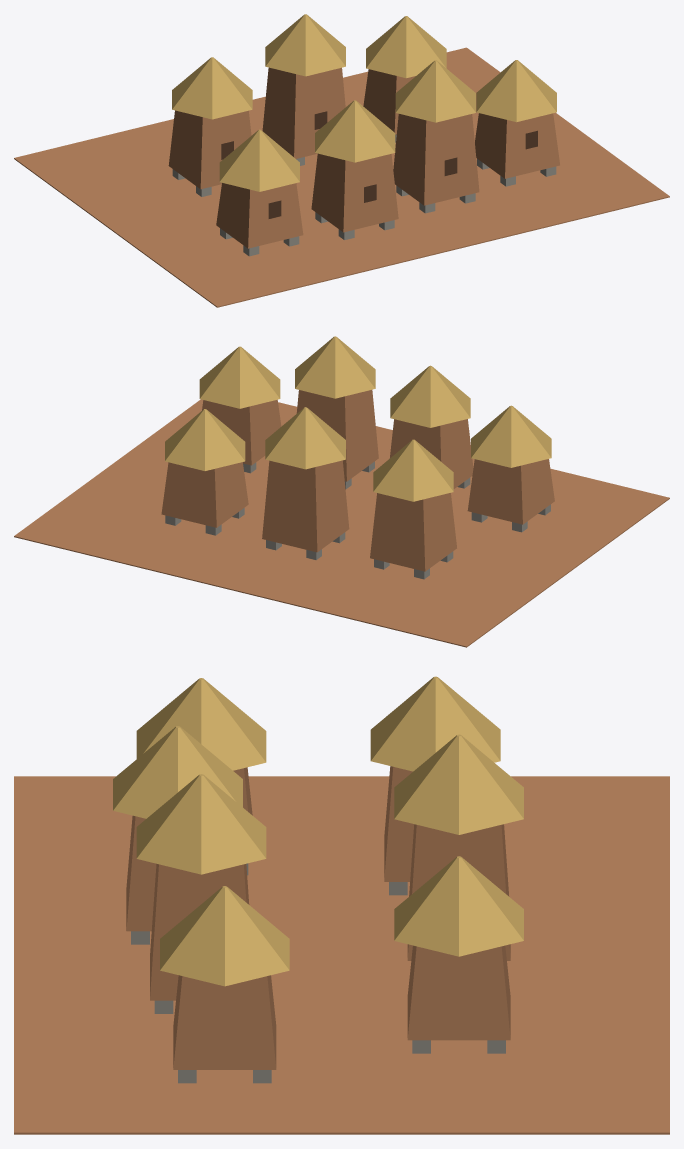
Rendered from grenier_dogon.glb.
3 views of the same model, one above another, from view 1: azimuth 30°, elevation 25°; view 2: azimuth 150°, elevation 25°; view 3: azimuth 270°, elevation 25° (orthographic). The views are drawn at different scales.
Visible parts, largest first — view 1: grenier_dogon; view 2: grenier_dogon; view 3: grenier_dogon.
Part boxes in pixels (x1=…): grenier_dogon: x1=14, y1=14, x2=669, y2=307; grenier_dogon: x1=14, y1=336, x2=669, y2=647; grenier_dogon: x1=14, y1=676, x2=669, y2=1134.
Size of the model in its own units: 18 by 5.2 by 14.
Materials: 1 (1 with a texture image).
